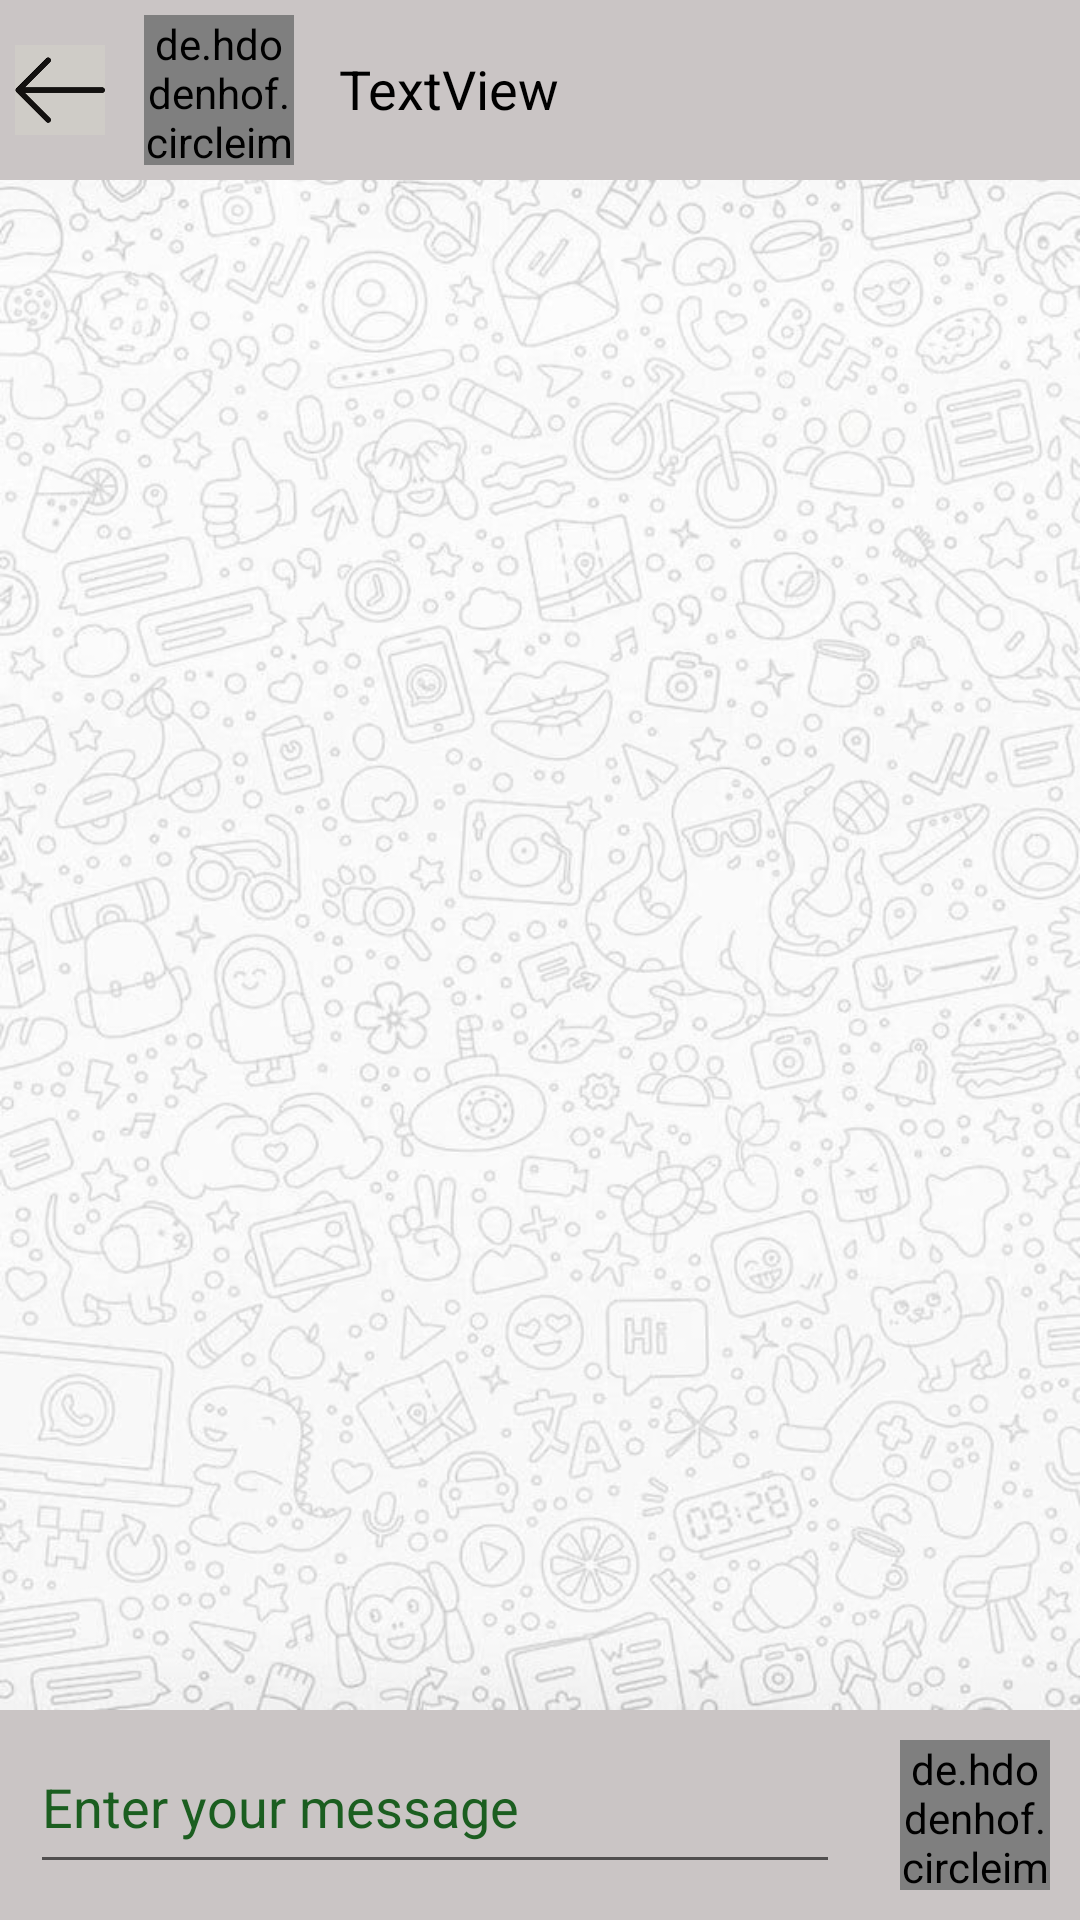

Icon bounding boxes for this 1080w x 1920h phone screenshot, format (x1, y1, x2, y2):
back: (15, 57, 105, 123)
